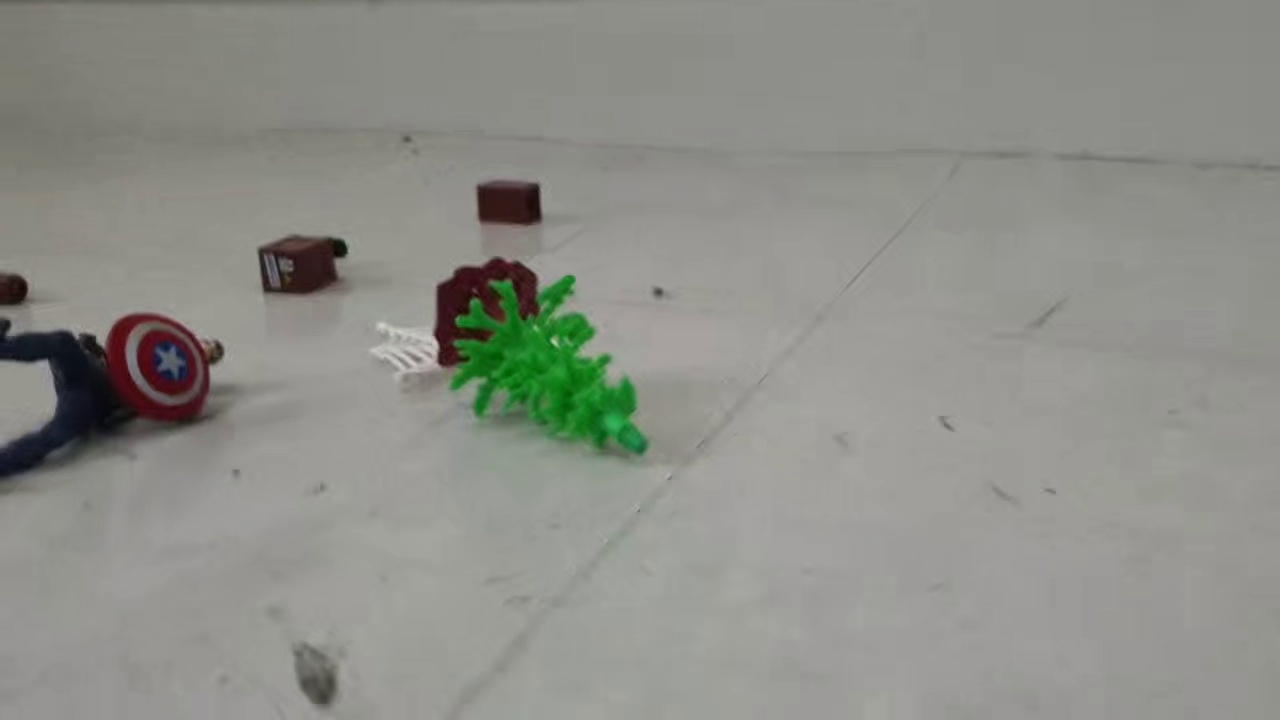box: (254, 231, 355, 299), (470, 177, 550, 227)
people: (1, 307, 227, 489)
tree: (431, 253, 648, 460)
